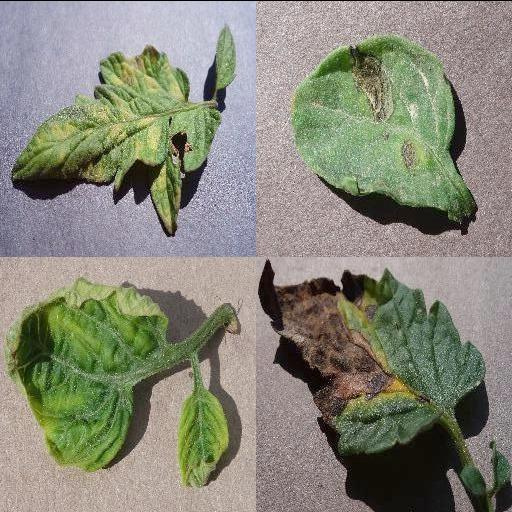Early Blight: (267, 270, 485, 450), (289, 33, 475, 225)
Leaf Mold: (9, 43, 215, 235)
Yellow Leaf Curl Virus: (3, 277, 169, 469), (175, 388, 229, 488)
